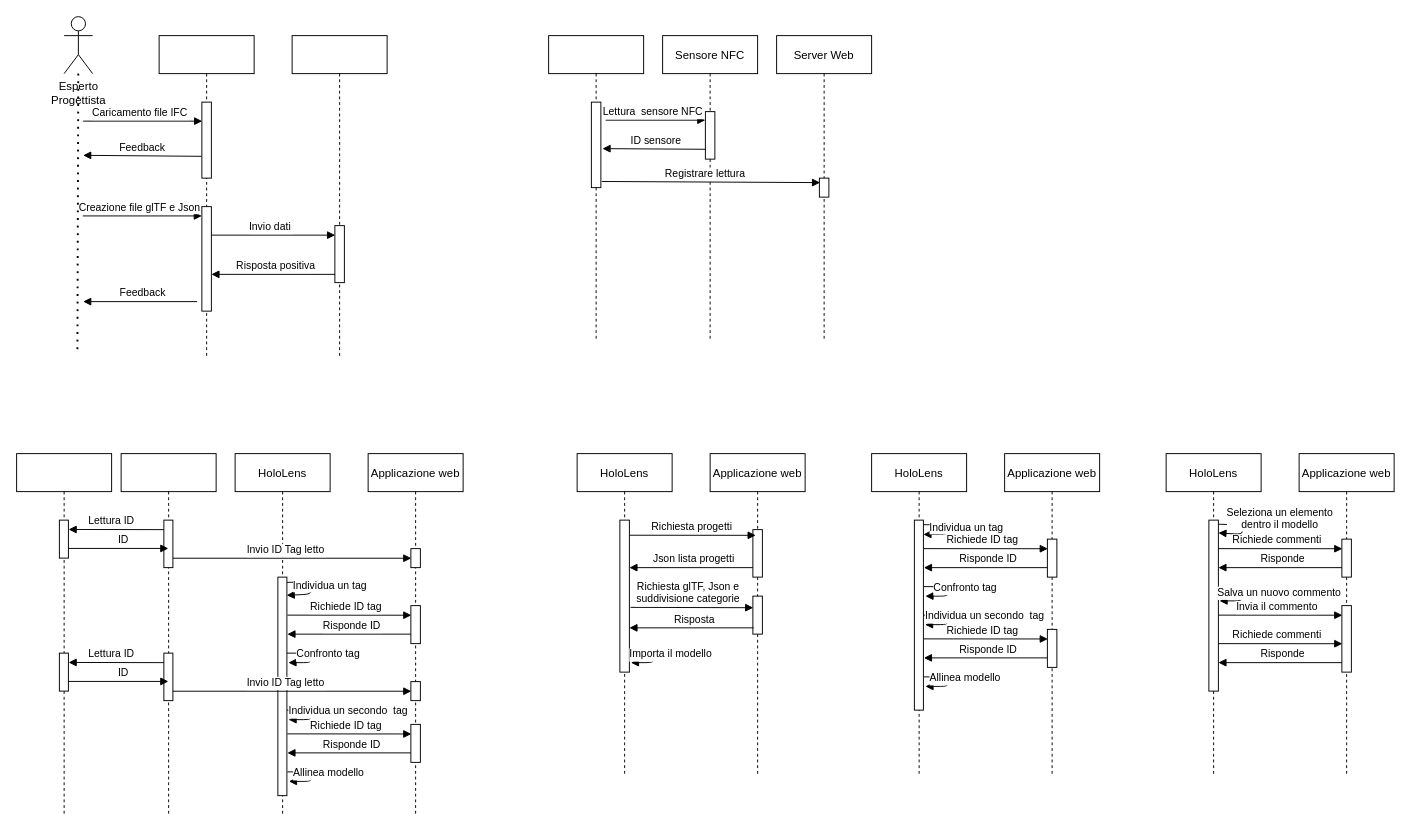
This 1411x831 diagram has some shape labels left out. The centre of each missing label's shape, as x and y in pixels:
"Cellulare" goes at point (596, 187).
"Cellulare Esperto Cantiere" goes at point (168, 634).
"Portale Web" goes at point (206, 197).
"Tags" goes at point (64, 634).
"Trasformer" goes at point (339, 197).
